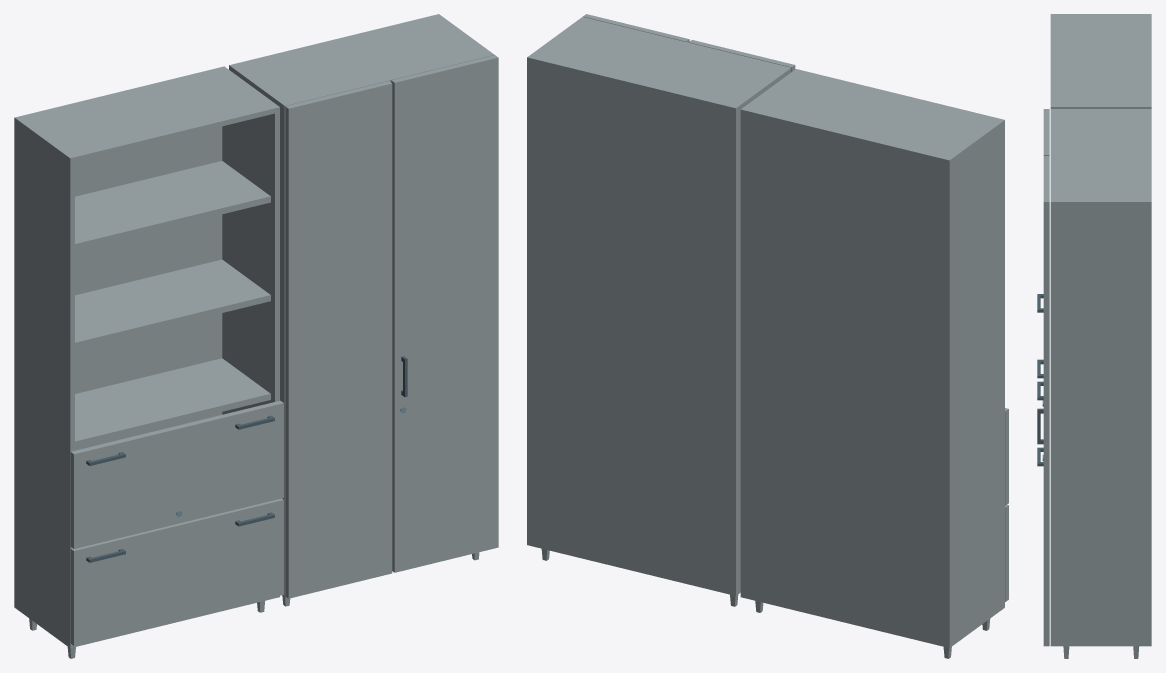
Rendered from closet.fbx.
The picture shows the model from 3 angles, left to right: view 1: azimuth 30°, elevation 25°; view 2: azimuth 150°, elevation 25°; view 3: azimuth 270°, elevation 25°; orthographic projection. The views are drawn at different scales.
Visible parts, largest first — view 1: closet.002, closet.003, closet.001, closet.004, closet.006; view 2: closet.002; view 3: closet.002, closet.001, closet.003, closet.004, closet.006.
Part boxes in pixels (x1=…): closet.002: x1=14, y1=14, x2=494, y2=658; closet.003: x1=285, y1=81, x2=392, y2=598; closet.001: x1=391, y1=55, x2=498, y2=572; closet.004: x1=70, y1=400, x2=283, y2=548; closet.006: x1=70, y1=498, x2=283, y2=645; closet.002: x1=527, y1=17, x2=1004, y2=658; closet.002: x1=1050, y1=14, x2=1151, y2=658; closet.001: x1=1037, y1=156, x2=1049, y2=646; closet.003: x1=1043, y1=109, x2=1049, y2=155; closet.004: x1=1037, y1=294, x2=1043, y2=406; closet.006: x1=1037, y1=381, x2=1043, y2=466.
Size of the model in its own units: 86.13 by 98.53 by 22.14.
